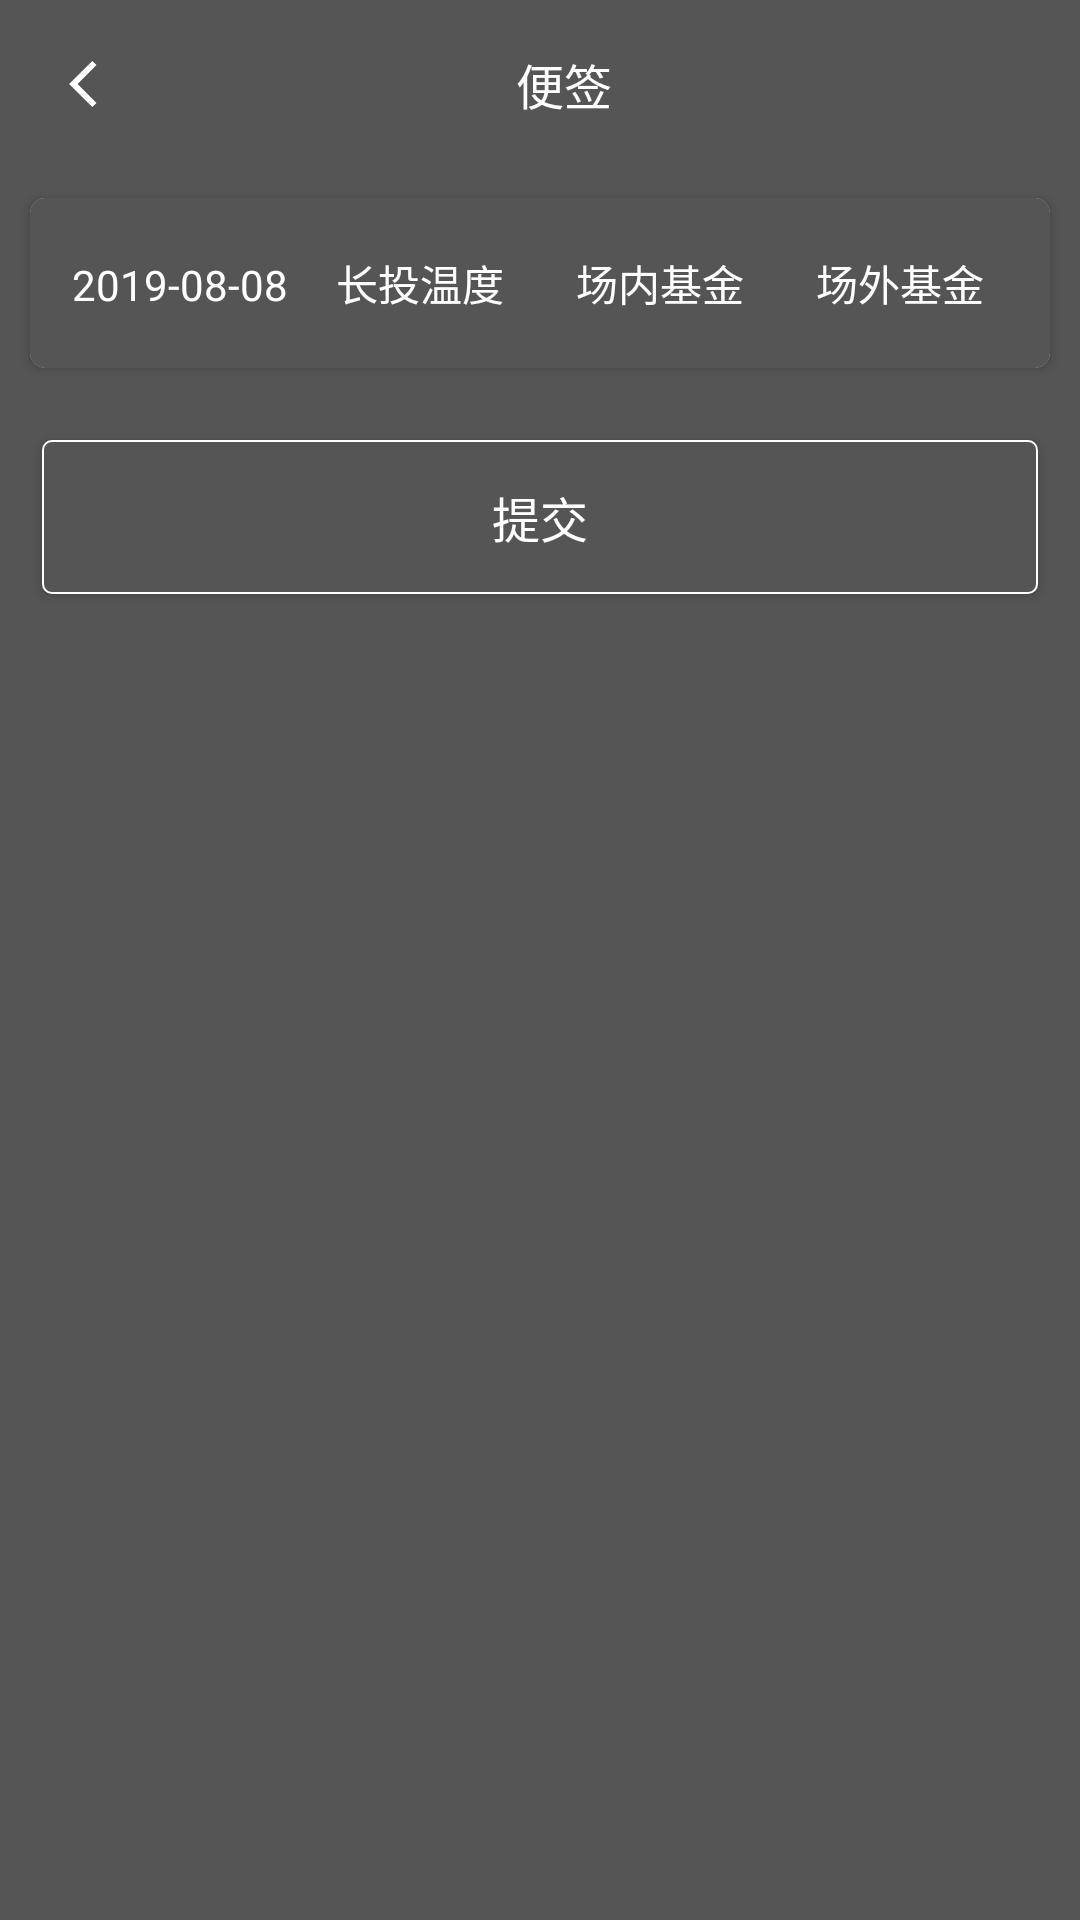

Named icons in this screenshot (1080*1920) and their centers, [x,y]:
arrow left: [82,84]
